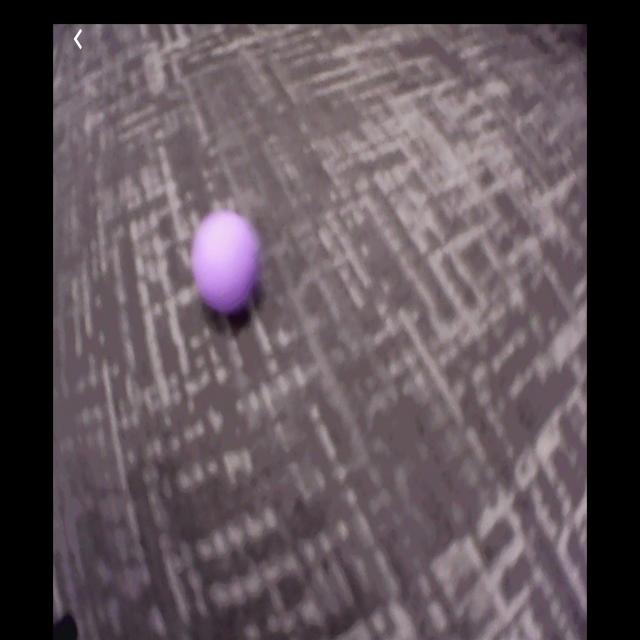ball: (194, 215, 261, 309)
